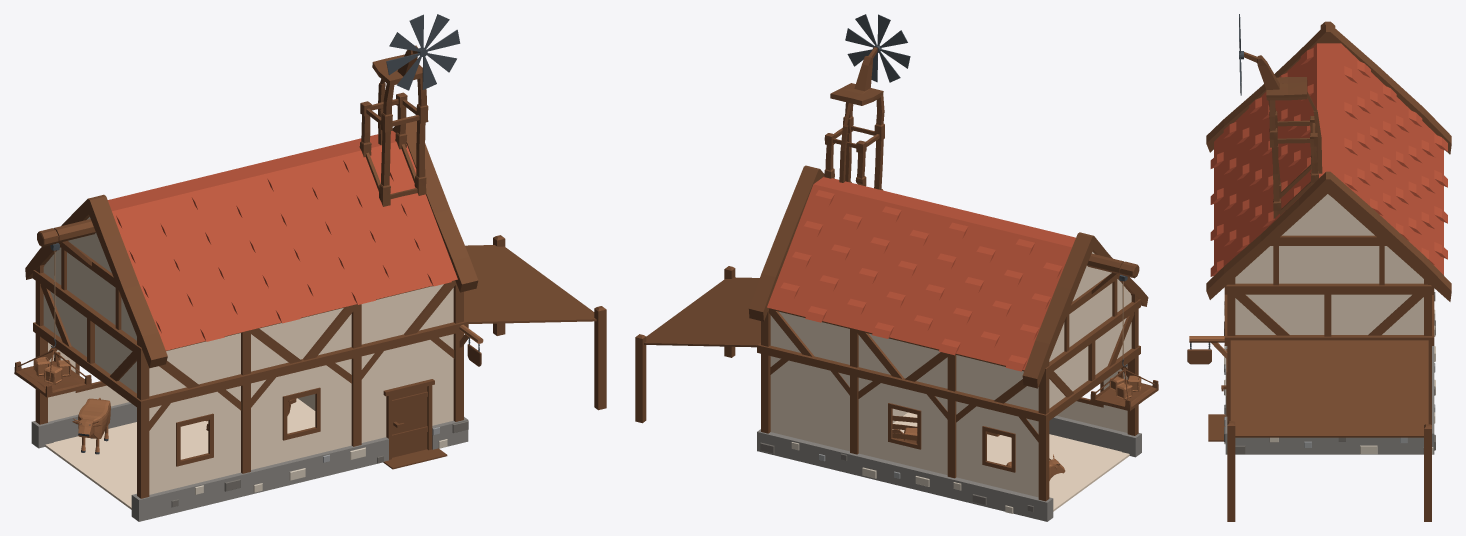
The model's file is BuildingSecond.fbx.
3 views of the same model, side by side, from view 1: azimuth 30°, elevation 25°; view 2: azimuth 150°, elevation 25°; view 3: azimuth 270°, elevation 25° (orthographic). The views are drawn at different scales.
Parts seen in each view (by area): view 1: BuildingSecond; view 2: BuildingSecond; view 3: BuildingSecond.
Boxes of the visible parts, <box> form: BuildingSecond: <box>14,14,606,521</box>; BuildingSecond: <box>635,14,1158,521</box>; BuildingSecond: <box>1187,14,1451,521</box>.
Size of the model in its own units: 36 by 28.52 by 16.18.
Materials: 1 (1 with a texture image).
